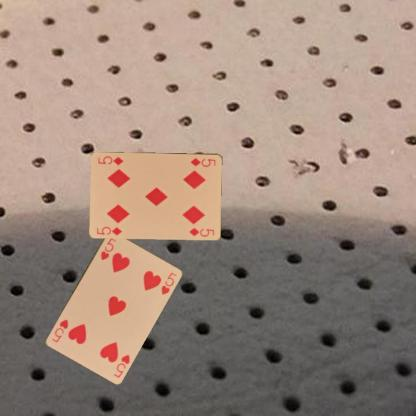5d: (188, 155, 217, 167), (94, 224, 123, 236)
5h: (111, 352, 131, 378), (98, 235, 117, 261)
